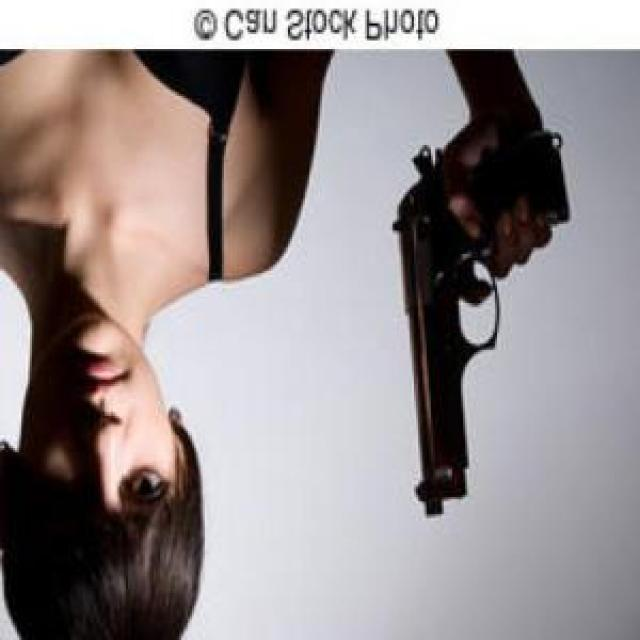pistol: (393, 128, 562, 521)
